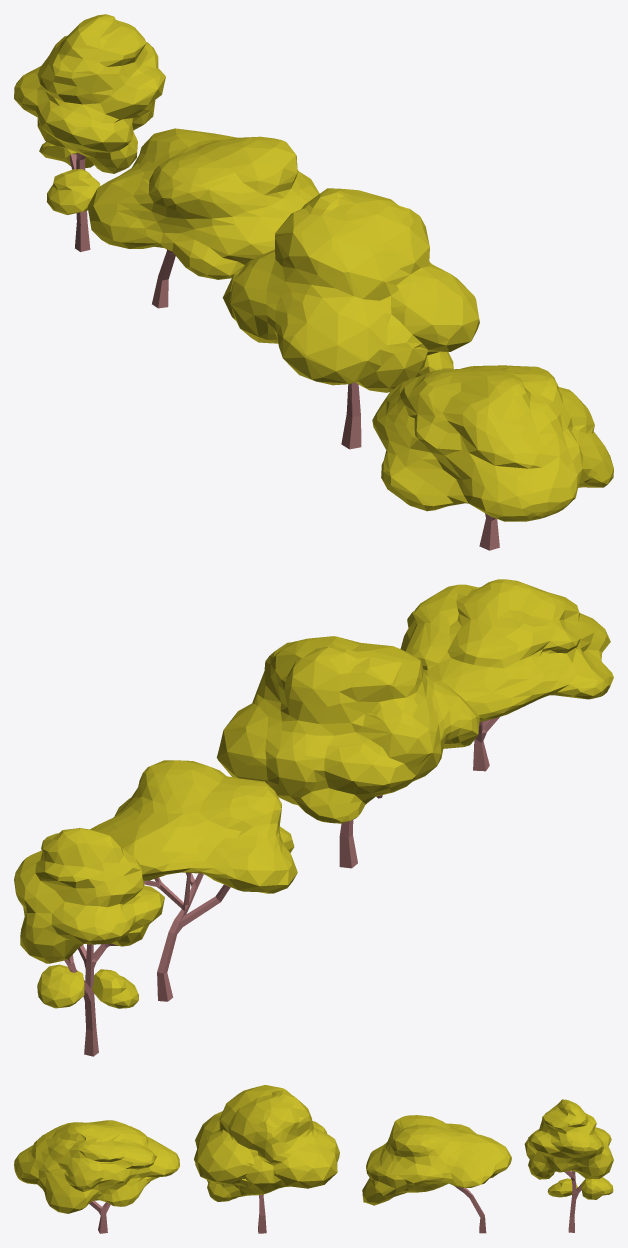
Rendered from Trees Low-Poly.fbx.
3 views of the same model, one above another, from view 1: azimuth 30°, elevation 25°; view 2: azimuth 150°, elevation 25°; view 3: azimuth 270°, elevation 25° (orthographic). The views are drawn at different scales.
Visible parts, largest first — view 1: T3, T4, T2, T1; view 2: T3, T4, T2, T1; view 3: T3, T4, T2, T1.
Part boxes in pixels (bbox=[...]): T3: bbox=[222, 188, 479, 449]; T4: bbox=[372, 365, 613, 550]; T2: bbox=[87, 128, 319, 308]; T1: bbox=[14, 14, 165, 251]; T3: bbox=[216, 636, 479, 868]; T4: bbox=[400, 579, 613, 771]; T2: bbox=[90, 760, 297, 1001]; T1: bbox=[14, 828, 164, 1056]; T3: bbox=[194, 1085, 339, 1233]; T4: bbox=[14, 1120, 179, 1233]; T2: bbox=[362, 1115, 511, 1233]; T1: bbox=[524, 1099, 613, 1232].
Bounding box in the file's own units: 1712 × 1767 × 6935.
